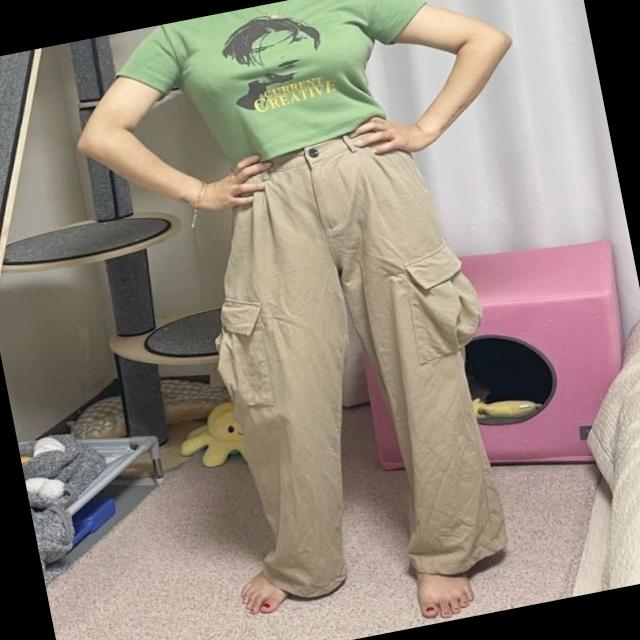cottonpants: (177, 118, 528, 615)
shortsleeve: (104, 0, 445, 191)
